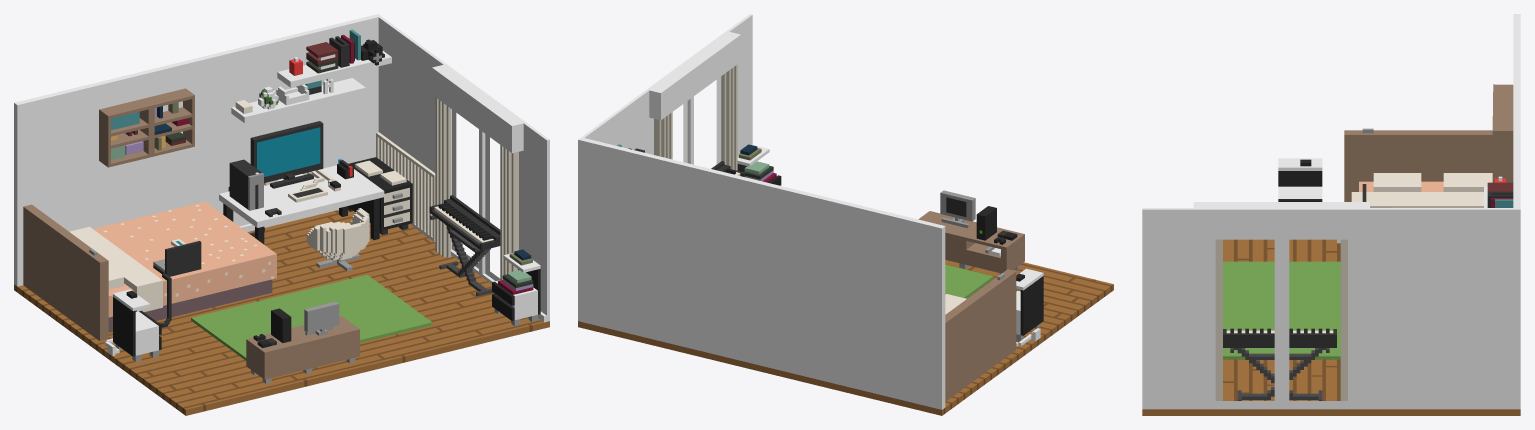
The picture shows the model from 3 angles, left to right: view 1: azimuth 30°, elevation 25°; view 2: azimuth 150°, elevation 25°; view 3: azimuth 270°, elevation 25°; orthographic projection. The views are drawn at different scales.
Parts seen in each view (by area): view 1: chambre; view 2: chambre; view 3: chambre.
Boxes of the visible parts, x1,y1,x2,y2 form: chambre: (14, 14, 549, 415); chambre: (578, 14, 1113, 415); chambre: (1142, 14, 1520, 415).
Bounding box in the file's own units: 12.71 × 6.25 × 10.39.
1 material, 1 textured.
